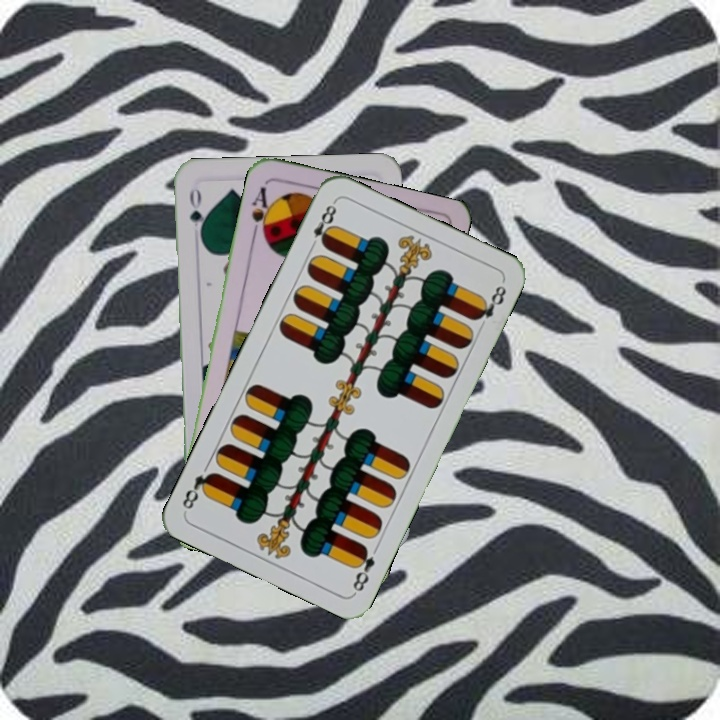E8: (305, 198, 340, 253), (348, 541, 378, 595)
GO: (185, 183, 209, 242)
SA: (247, 182, 275, 241)
